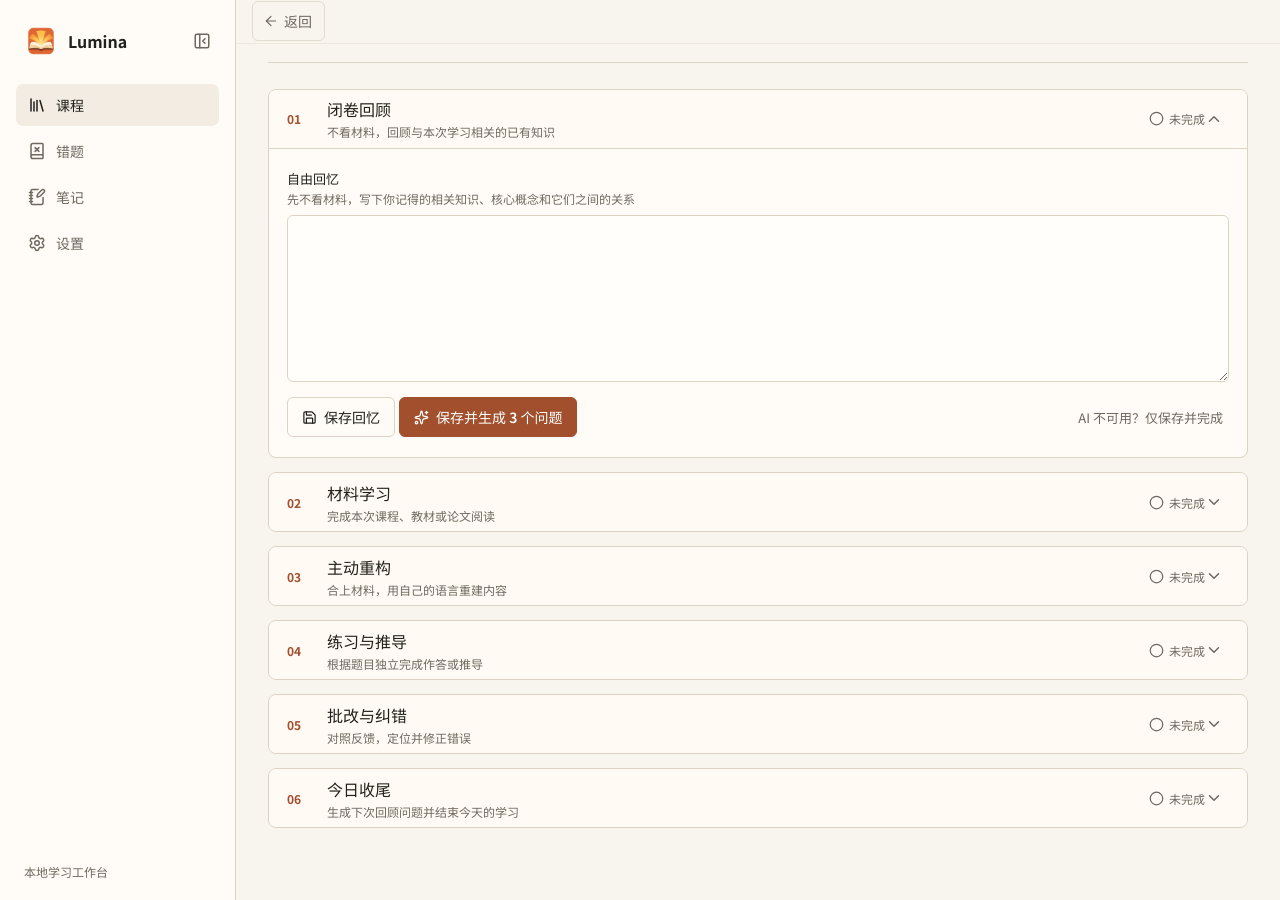
Test case: App › deletes a legacy exercise only after two in-app confirmations
(page scrolled)
Click the button with aria-label "展开练习与推导".
click(367, 641)  # box [269,621,1247,679]
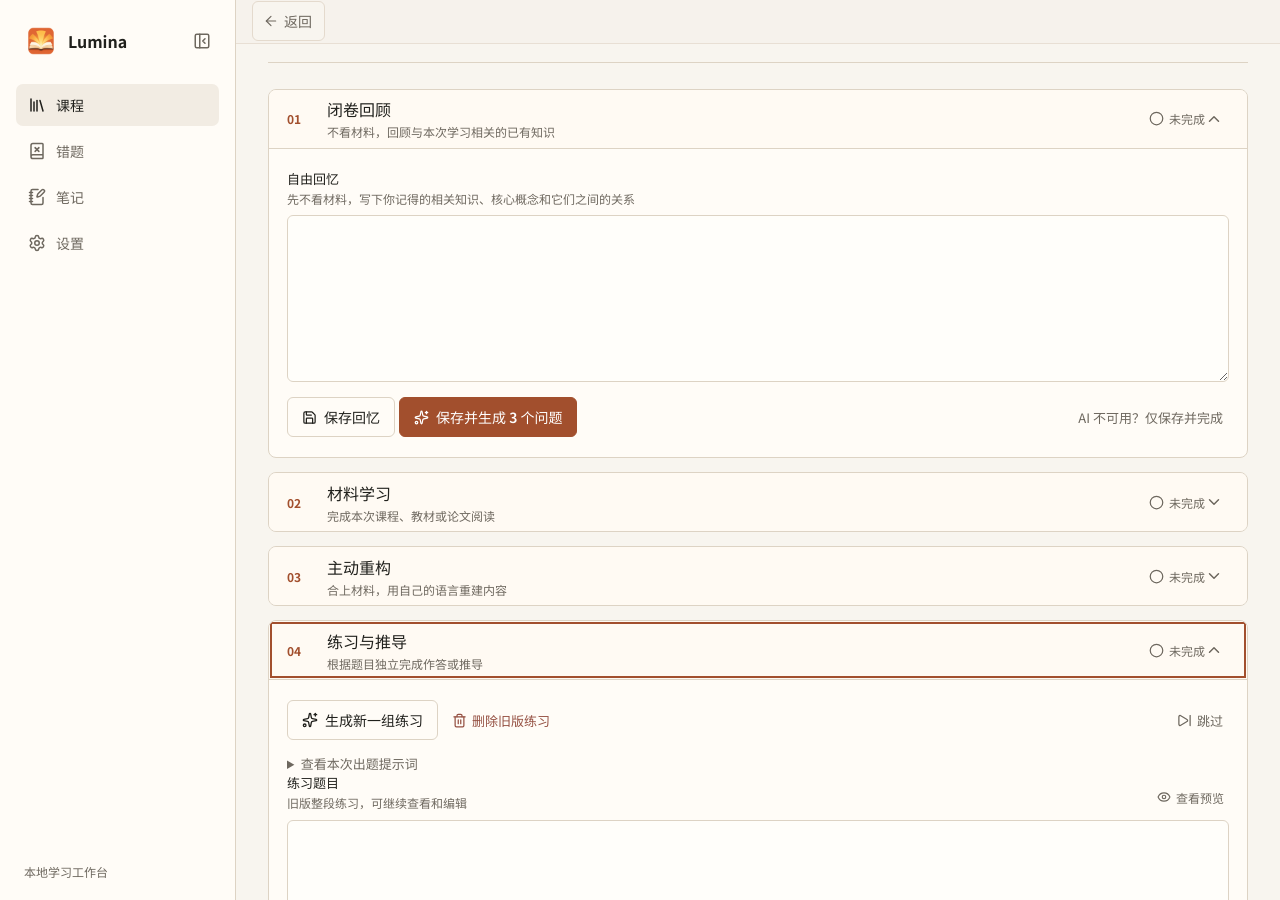
Click the button "删除旧版练习".
click(501, 720)  # box [446,702,556,738]
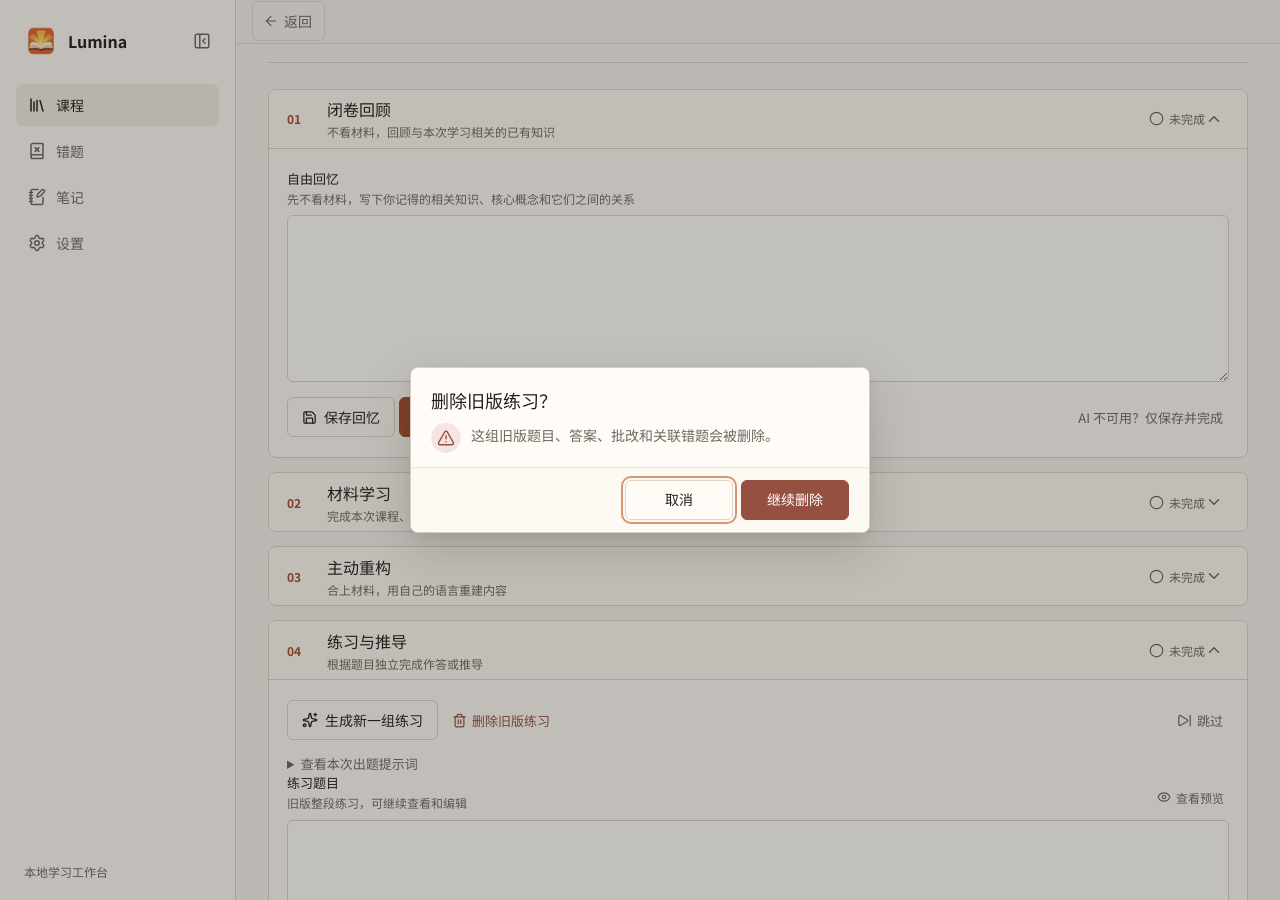
Expected: the text "这组旧版题目、答案、批改和关联错题会被删除。" is shown, [471,424,779,447]
Click the button "继续删除".
click(795, 500)  # box [741,480,849,520]
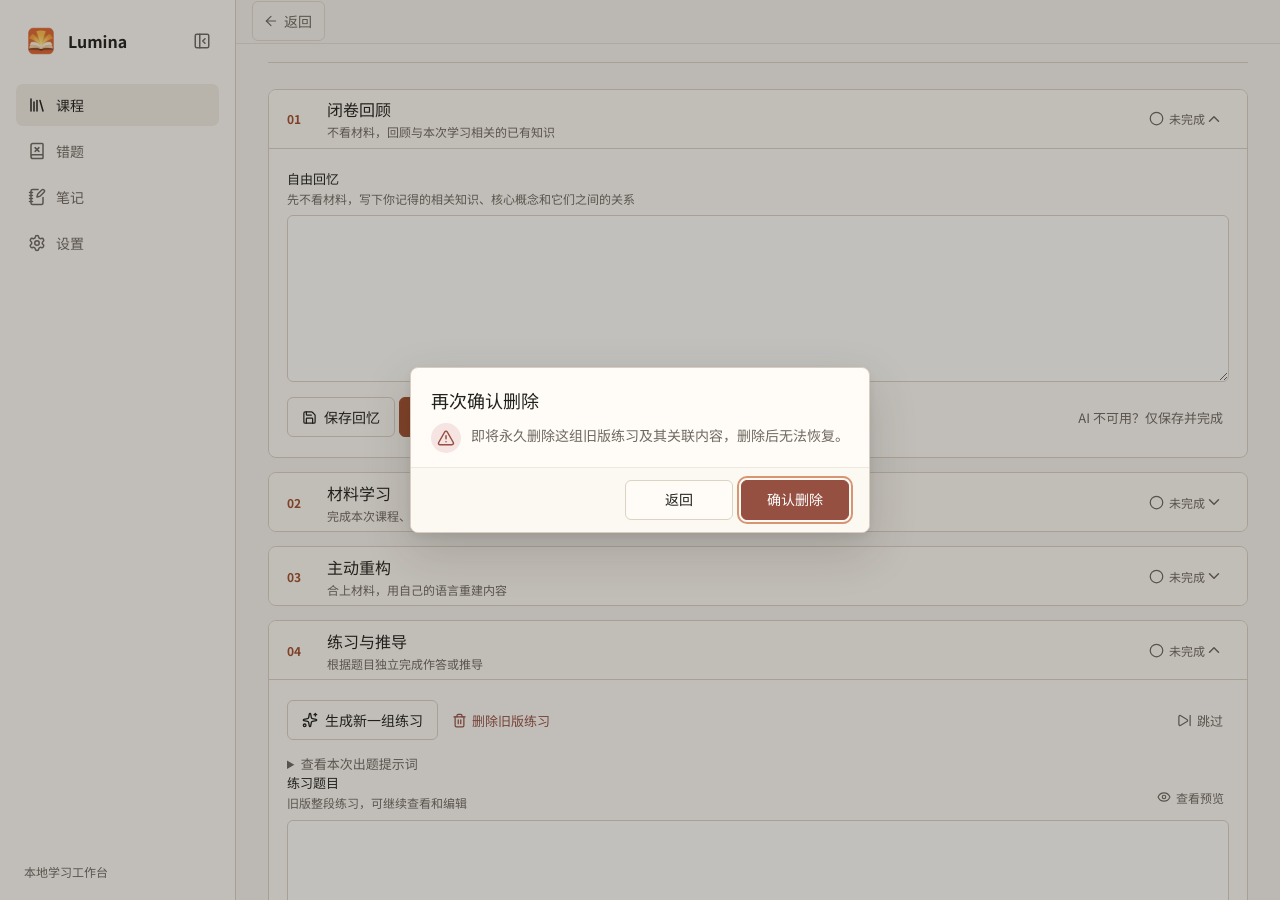
Click the button "确认删除".
click(795, 500)  # box [741,480,849,520]
(page scrolled)
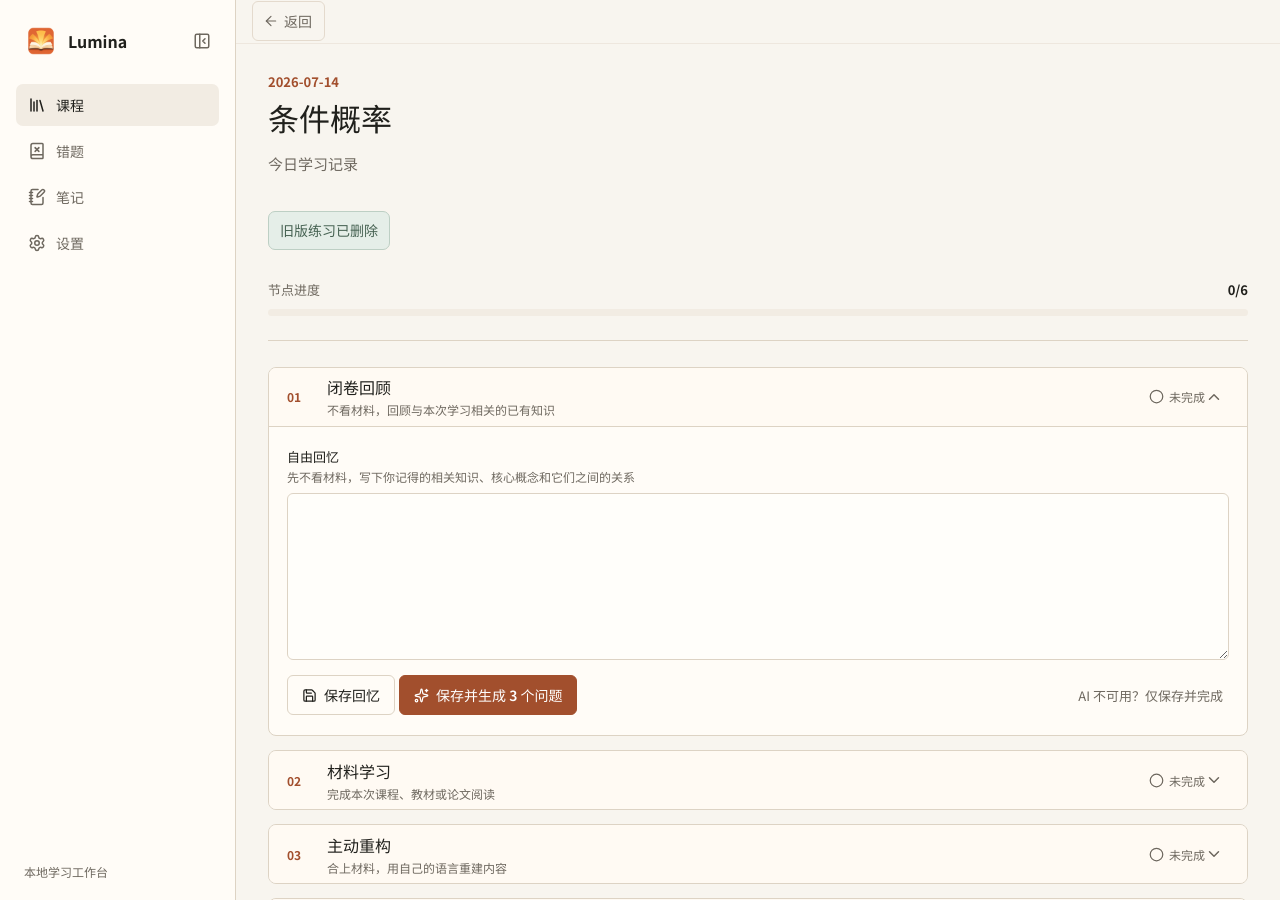
Expected: the text "旧版练习已删除" is shown, [268,211,390,250]
Expected: the text "旧版整段练习，可继续查看和编辑" is gone
